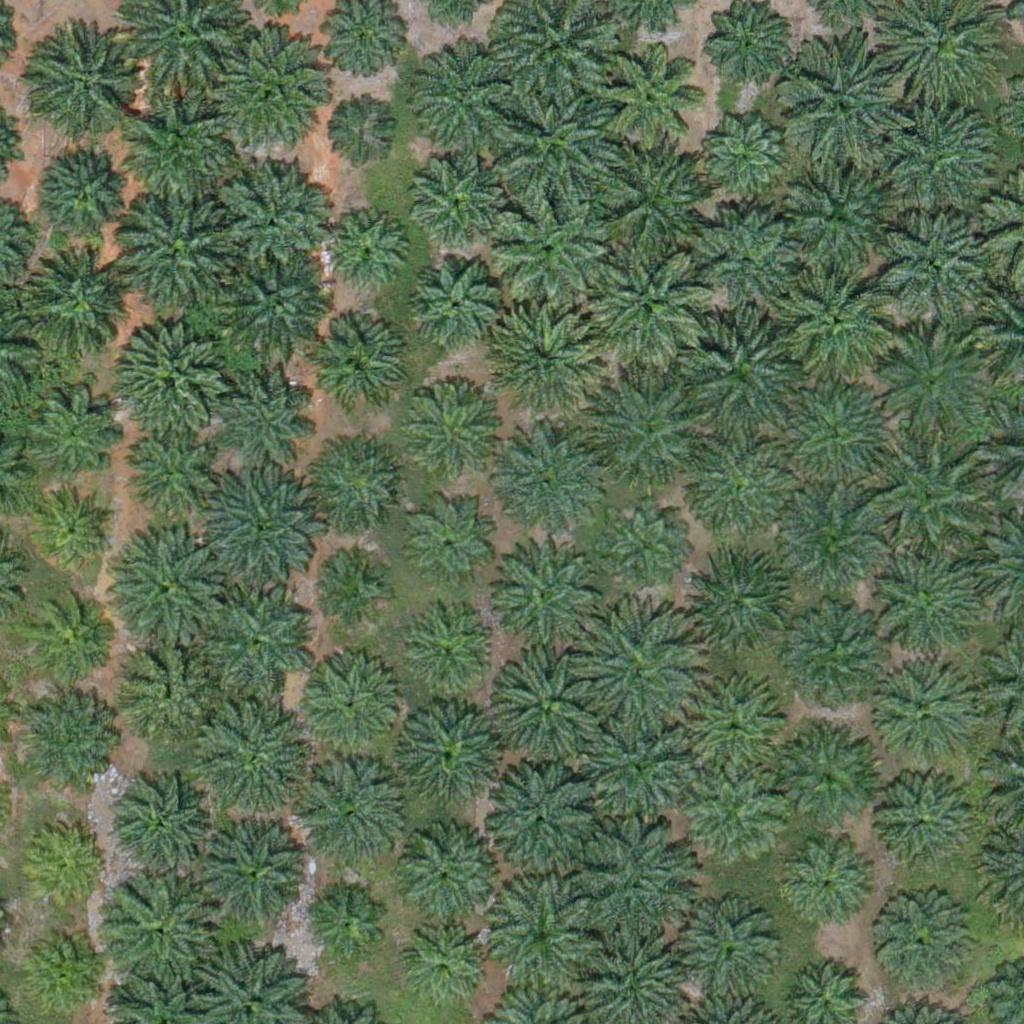Kelapa_Sawit: (864, 442, 989, 568), (784, 42, 909, 168), (570, 604, 695, 730), (592, 243, 717, 369), (104, 866, 229, 992), (485, 872, 610, 998), (573, 811, 698, 937), (495, 77, 620, 202), (485, 305, 598, 419), (489, 650, 602, 764), (392, 698, 505, 812), (221, 33, 334, 147), (17, 246, 130, 360), (867, 885, 980, 999), (881, 106, 994, 219), (780, 383, 893, 496), (783, 267, 896, 380), (681, 314, 794, 427), (595, 376, 708, 489), (496, 190, 609, 303), (489, 539, 602, 652), (410, 38, 523, 151), (297, 653, 410, 766), (199, 702, 312, 815), (203, 468, 316, 581), (124, 96, 237, 209), (115, 197, 228, 310), (112, 317, 225, 430), (10, 377, 123, 490), (670, 757, 783, 870), (120, 535, 232, 649), (485, 766, 597, 880), (294, 759, 406, 873), (884, 327, 996, 440), (777, 161, 889, 274), (680, 430, 792, 543), (583, 713, 695, 826), (597, 143, 709, 256), (487, 428, 599, 541), (202, 586, 314, 699), (221, 248, 333, 361), (216, 161, 328, 274), (194, 817, 306, 930), (399, 821, 511, 934), (882, 215, 982, 316), (783, 493, 883, 594), (697, 209, 797, 310), (682, 673, 782, 774), (604, 52, 704, 153), (219, 355, 319, 456), (39, 139, 139, 240), (674, 894, 774, 995), (871, 559, 971, 659), (879, 660, 979, 760), (782, 728, 882, 828), (783, 600, 883, 700), (308, 317, 408, 417), (123, 638, 223, 738), (34, 37, 134, 137), (780, 832, 880, 932), (872, 772, 972, 872), (22, 698, 110, 787), (29, 485, 117, 573), (696, 557, 784, 645), (405, 607, 493, 695), (409, 153, 497, 241), (319, 207, 407, 295), (118, 431, 206, 519), (21, 597, 109, 685), (412, 383, 499, 471), (411, 257, 498, 345), (313, 438, 400, 526), (119, 780, 206, 868), (320, 100, 395, 176), (31, 931, 106, 1007), (710, 6, 785, 82), (708, 123, 783, 199), (415, 509, 490, 585), (29, 827, 104, 903), (314, 890, 389, 966), (609, 499, 684, 574), (411, 928, 486, 1003), (322, 557, 385, 620)
